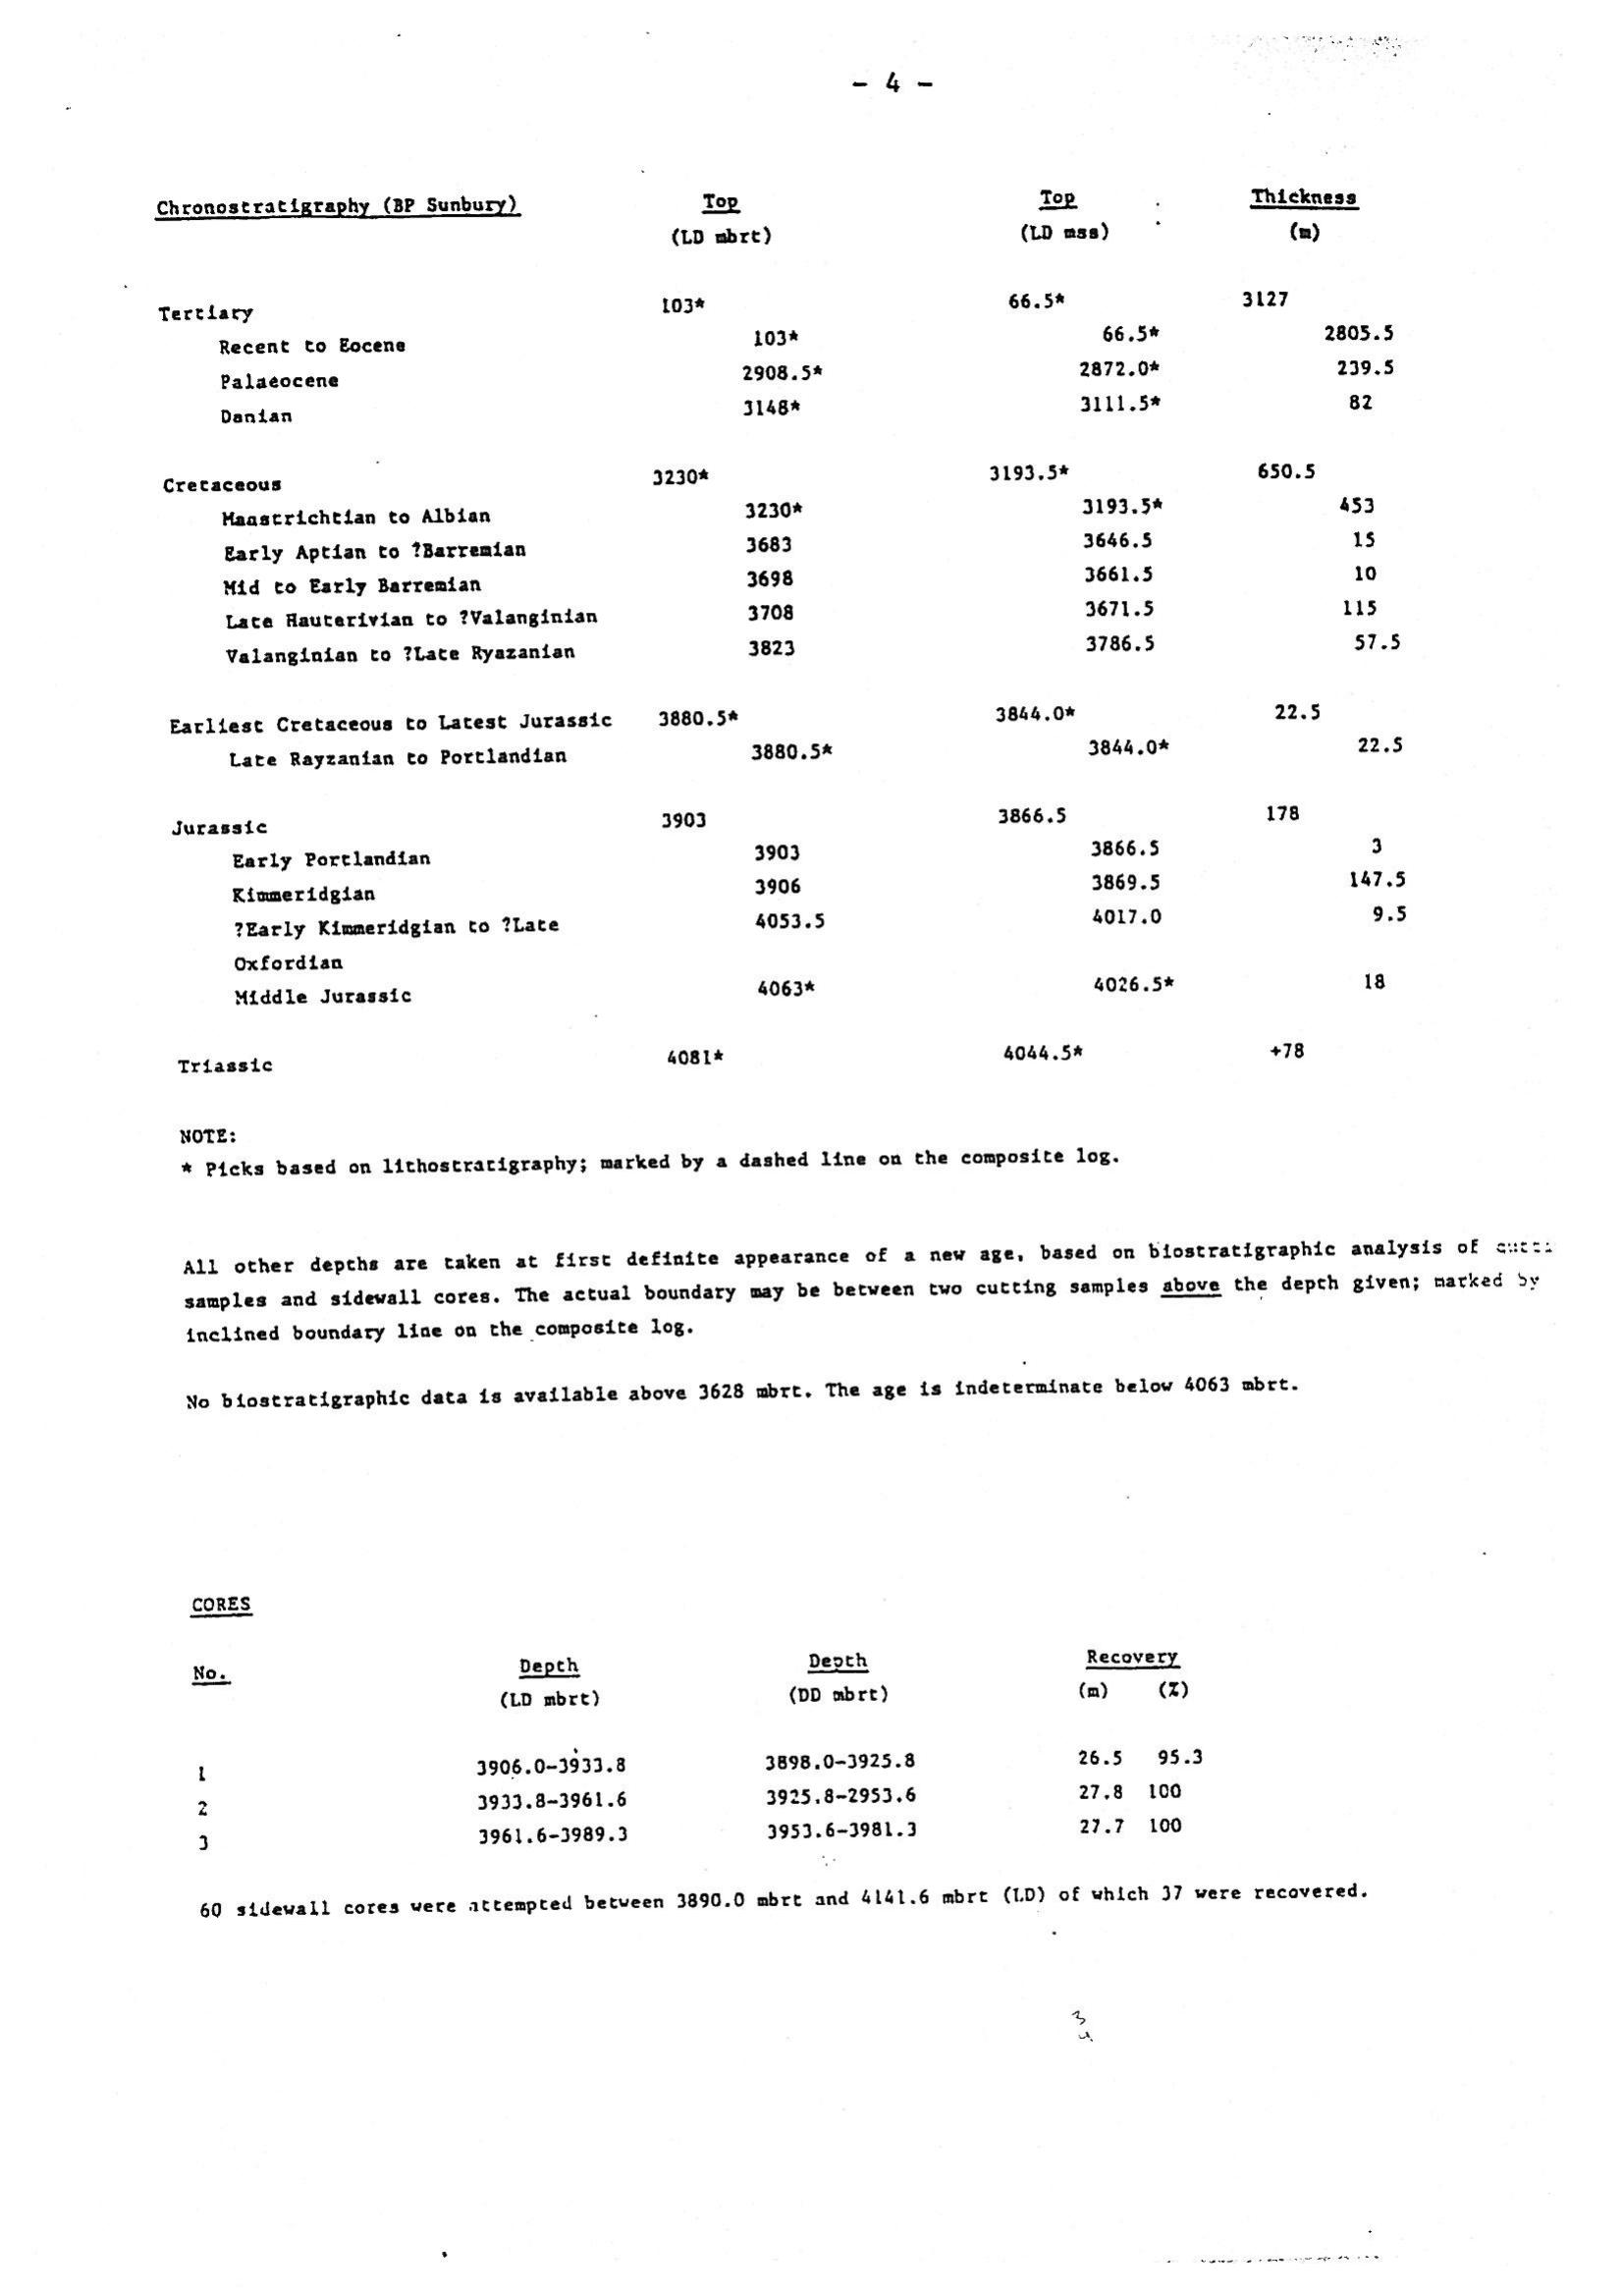table: (102, 137, 1461, 1094), (146, 1528, 1381, 1869)
text: (133, 1112, 1579, 1455), (183, 1874, 1375, 1932)
